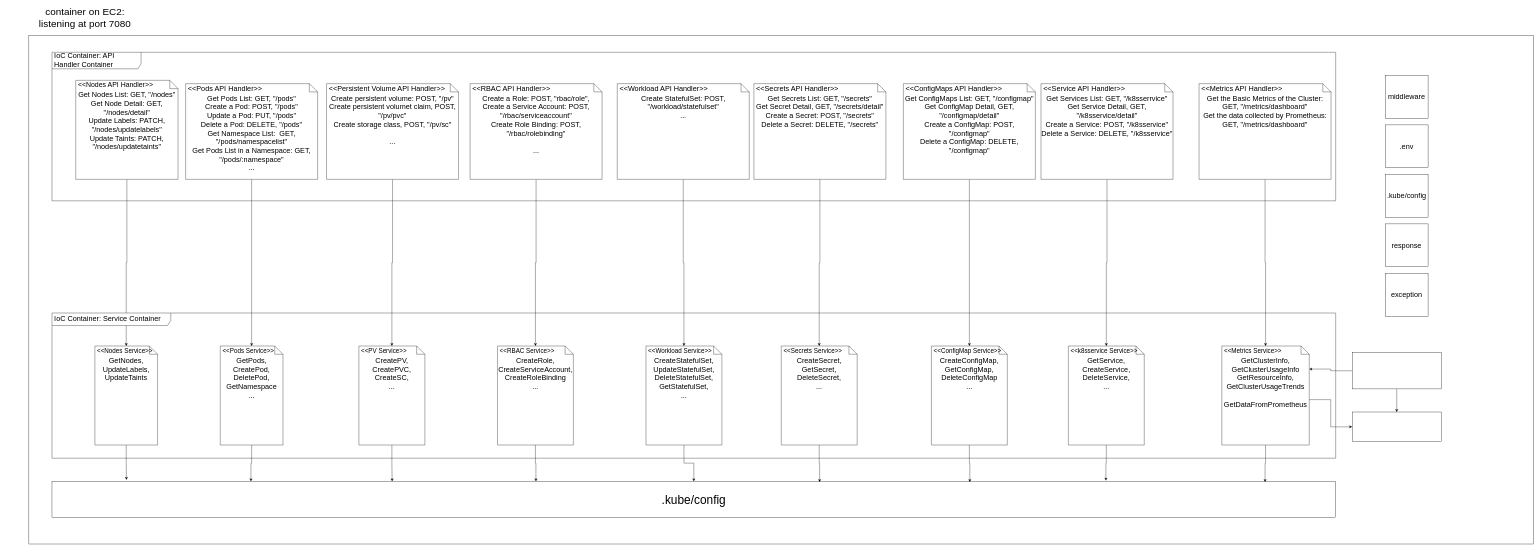
Image size: 1539x550. Some labels were removed from this diagram. The shapes that lost their labels are listed below. From the top down, each one's centre as x and y in pixels, then its label:
the point at 1396,370: Prometheus Exporter
the point at 1396,427: Prometheus Client
